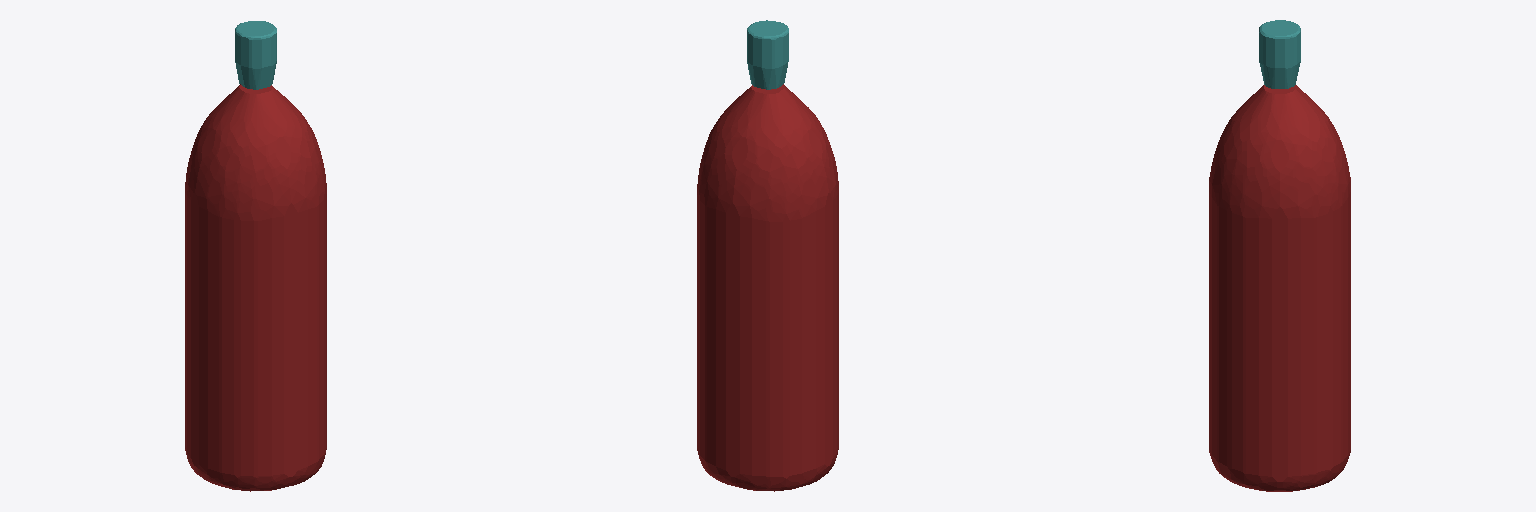
The robot description file, URDF, robot "root":
<robot name="root">
  <link name="bottle_body">
    <inertial>
      <origin xyz="0 0 0" rpy="0 0 0"/>
    </inertial>
    <mass value="1.00E-02"/>
    <visual>
      <origin xyz="0 0 0" rpy="0 0 0"/>
      <geometry>
        <mesh filename="core-bottle-44e45054f9ef4e251881e4573fc7a947-coacd_convex_piece_1.obj" scale="1.0000E-01 1.0000E-01 1.0000E-01"/>
      </geometry>
      <material name="">
        <color rgba="6.00E-01 2.00E-01 2.00E-01 1"/>
      </material>
    </visual>
    <collision>
      <origin xyz="0 0 0" rpy="0 0 0"/>
      <geometry>
        <mesh filename="core-bottle-44e45054f9ef4e251881e4573fc7a947-coacd_convex_piece_1.obj" scale="1.0000E-01 1.0000E-01 1.0000E-01"/>
      </geometry>
    </collision>
  </link>
  <link name="bottle_cap">
    <origin xyz="0 0 0.002" rpy="0 0 0"/>
    <mass value="1.00E-02"/>
    <visual>
      <origin xyz="0 0 0.002" rpy="0 0 0"/>
      <geometry>
        <mesh filename="core-bottle-44e45054f9ef4e251881e4573fc7a947-coacd_convex_piece_0.obj" scale="1.0000E-01 1.0000E-01 1.0000E-01"/>
      </geometry>
      <material name="">
        <color rgba="3.00E-01 6.00E-01 6.00E-01 1"/>
      </material>
    </visual>
    <collision>
      <origin xyz="0 0 0.002" rpy="0 0 0"/>
      <geometry>
        <mesh filename="core-bottle-44e45054f9ef4e251881e4573fc7a947-coacd_convex_piece_0.obj" scale="1.0000E-01 1.0000E-01 1.0000E-01"/>
      </geometry>
    </collision>
  </link>
  <joint name="bottle_cap_joint" type="revolute">
    <origin xyz="0 0 0" rpy="0 0 0"/>
    <parent link="bottle_body"/>
    <child link="bottle_cap"/>
    <axis xyz="0 0 1"/>
    <limit lower="0.00" upper="6.28"/>
    <dynamics damping="0.05"/>
  </joint>
</robot>

--- What the picture shows (computed from the rendered views, not written in the file) ---
The picture shows the robot from 3 angles, left to right: view 1: azimuth 30°, elevation 25°; view 2: azimuth 150°, elevation 25°; view 3: azimuth 270°, elevation 25°; orthographic projection.
Robot: root — 2 links, 1 joints (1 revolute); root link bottle_body; default pose: all joints at 0.
Links seen in each view (by area): view 1: bottle_body, bottle_cap; view 2: bottle_body, bottle_cap; view 3: bottle_body, bottle_cap.
Link boxes in pixels (x1=…): bottle_body: x1=185, y1=84, x2=326, y2=491; bottle_cap: x1=235, y1=21, x2=276, y2=89; bottle_body: x1=697, y1=84, x2=838, y2=491; bottle_cap: x1=747, y1=20, x2=788, y2=89; bottle_body: x1=1209, y1=85, x2=1350, y2=491; bottle_cap: x1=1259, y1=20, x2=1300, y2=88.
Size in the robot's own frame: 0.056 by 0.056 by 0.1929 metres.
2 mesh visuals loaded from 2 distinct referenced files (2 OBJ).